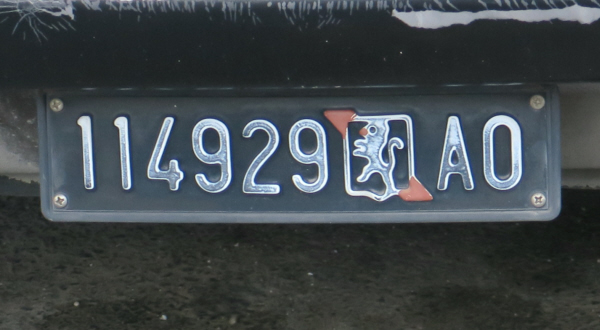license_plate: (37, 85, 558, 220)
